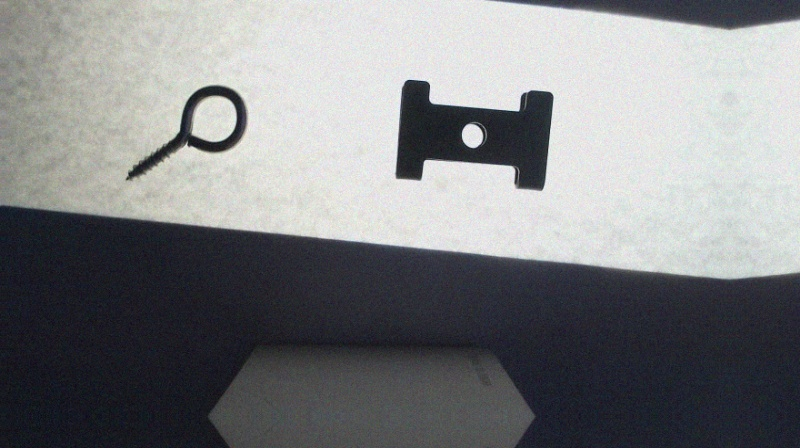O001: (122, 84, 247, 184)
O002: (393, 79, 554, 190)
